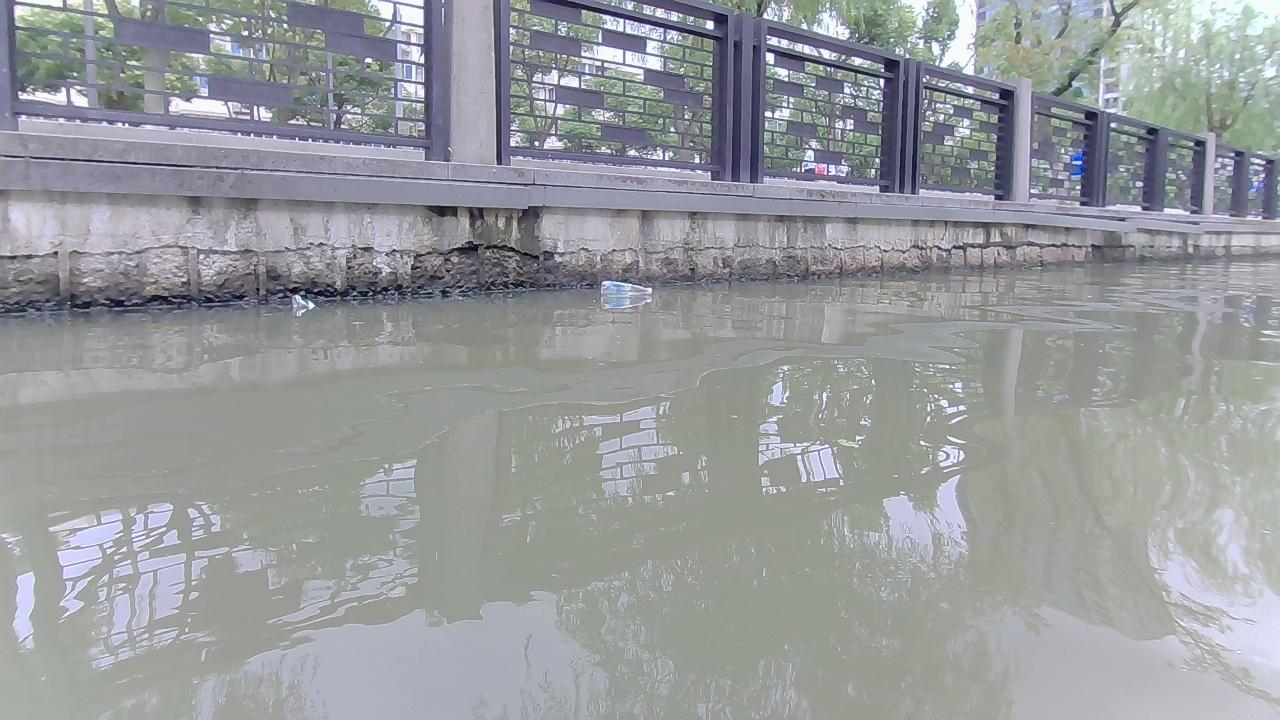bottle: (599, 280, 651, 294), (290, 293, 314, 307)
